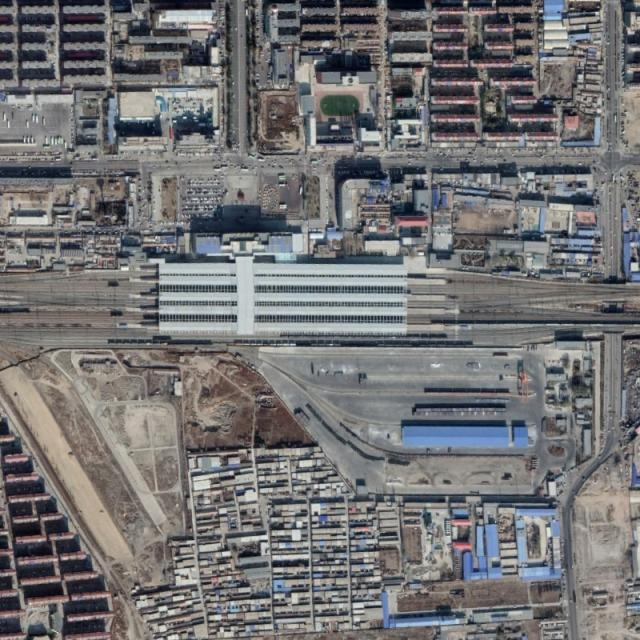vehicle: (42, 116, 46, 126), (248, 154, 255, 159), (258, 158, 266, 162), (279, 206, 286, 210), (3, 112, 6, 121), (7, 119, 10, 128), (35, 114, 38, 123), (45, 137, 48, 146), (278, 204, 287, 207), (614, 114, 617, 123), (31, 114, 34, 122), (50, 137, 53, 145), (54, 137, 57, 145), (221, 166, 229, 169), (241, 168, 249, 171), (278, 175, 286, 178), (11, 112, 14, 119), (26, 121, 29, 128), (214, 168, 221, 171), (311, 160, 318, 163), (299, 187, 302, 194), (279, 177, 286, 180), (278, 184, 286, 186), (65, 142, 67, 149), (246, 9, 248, 15)
